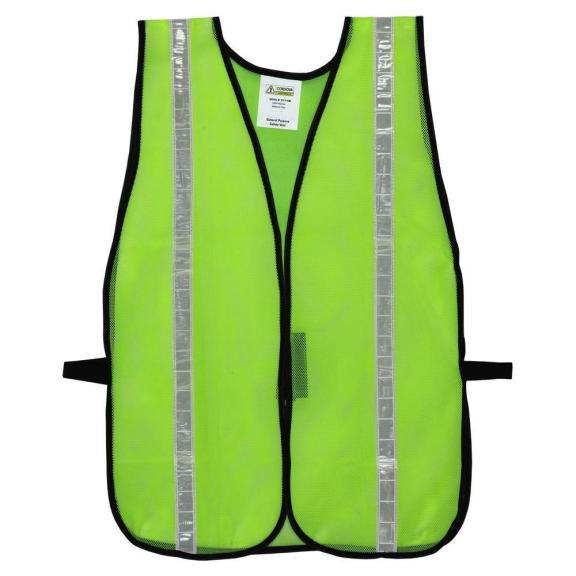safety_vest: (102, 13, 473, 560)
